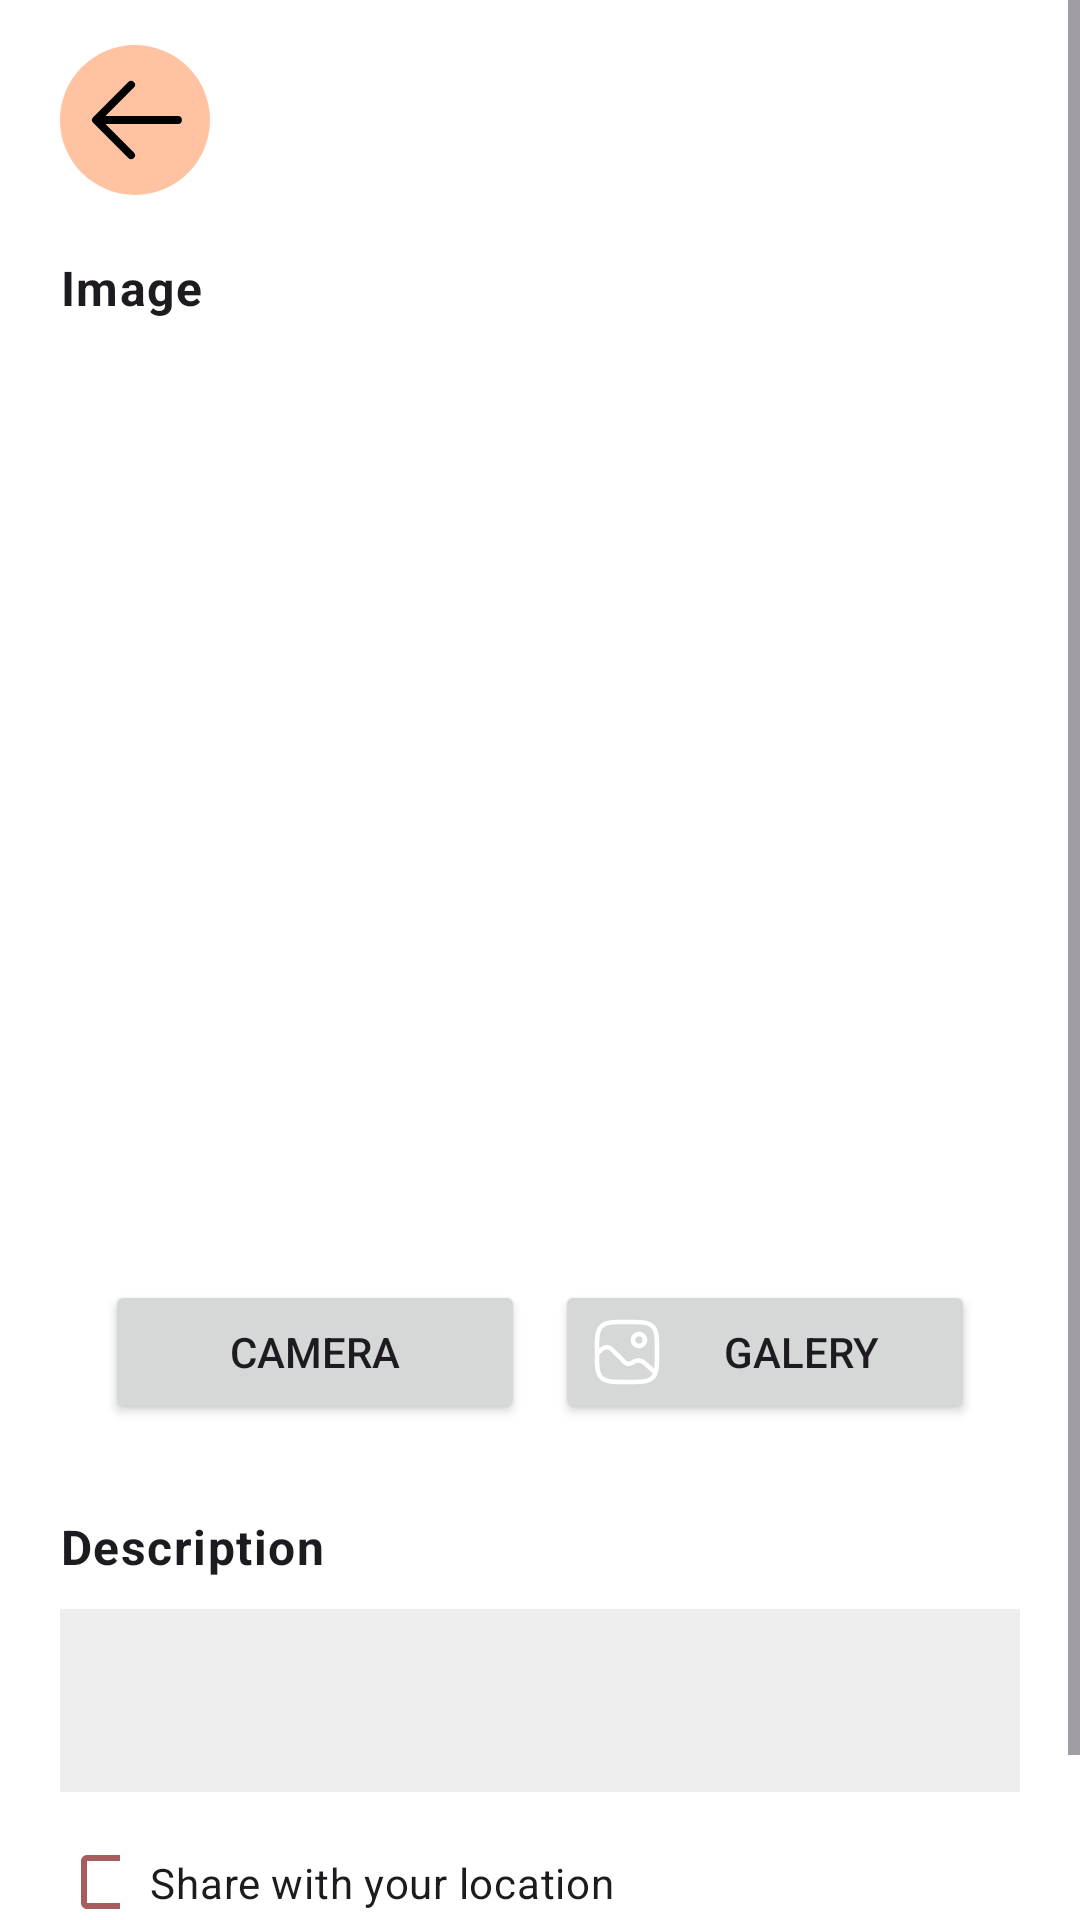

Locate icon controls on the screen. Image size 1080*1920, boxes as (x1, y1, x2, y2).
Back: (60, 45, 210, 195)
